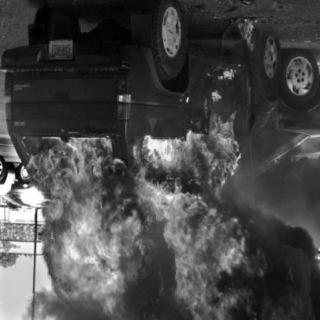Fire: (35, 133, 243, 309), (213, 18, 261, 130)
